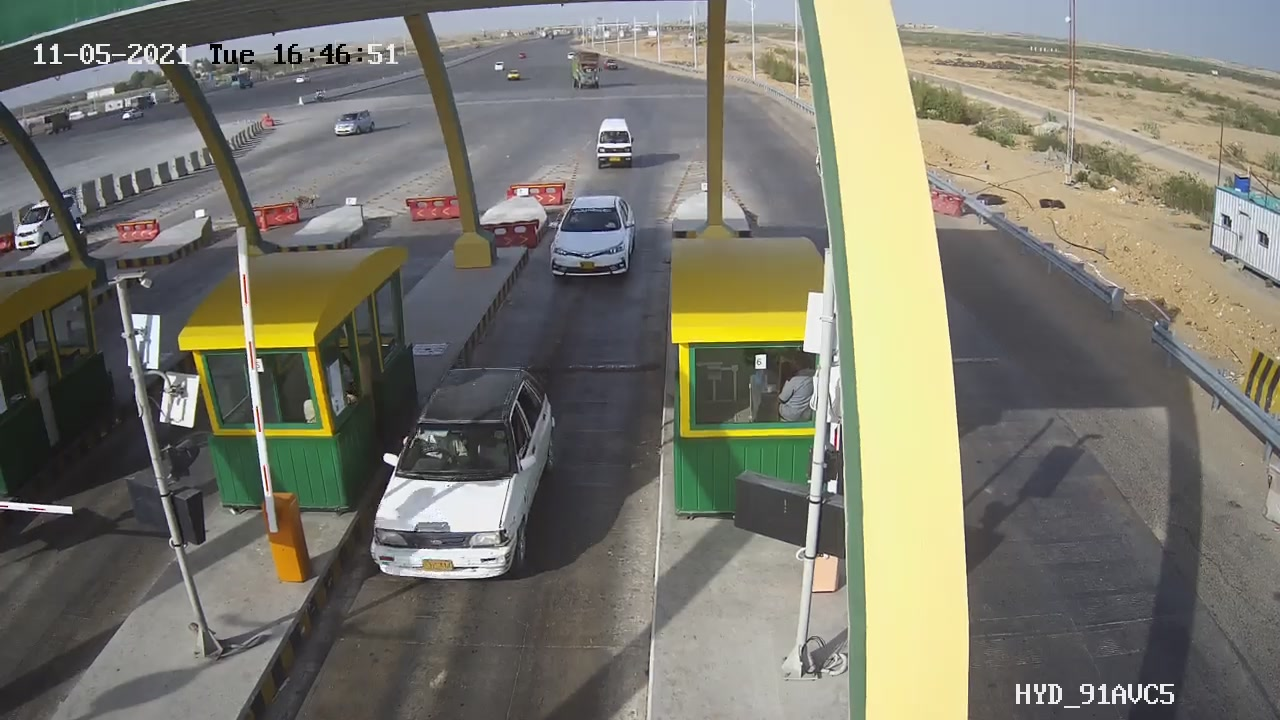F1: (353, 347, 584, 605), (531, 180, 652, 294)
